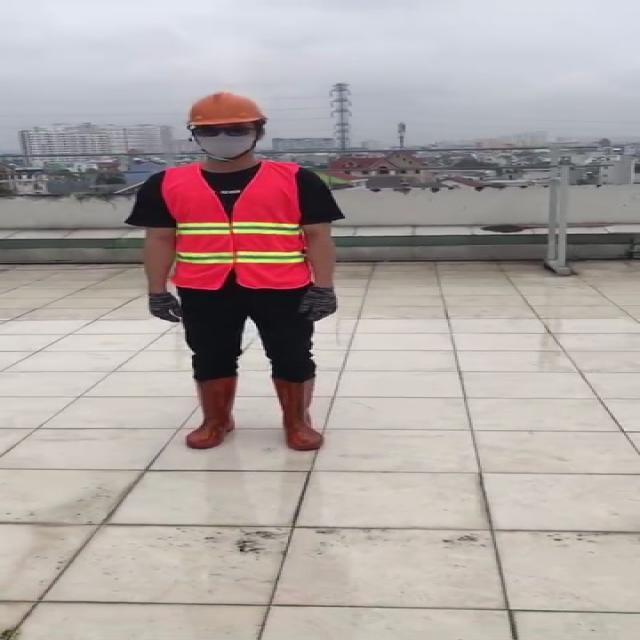boots: (265, 376, 329, 449), (184, 378, 238, 448)
gloves: (144, 290, 190, 322), (298, 288, 338, 321)
helmet: (180, 90, 270, 126)
vest: (160, 164, 310, 288)
